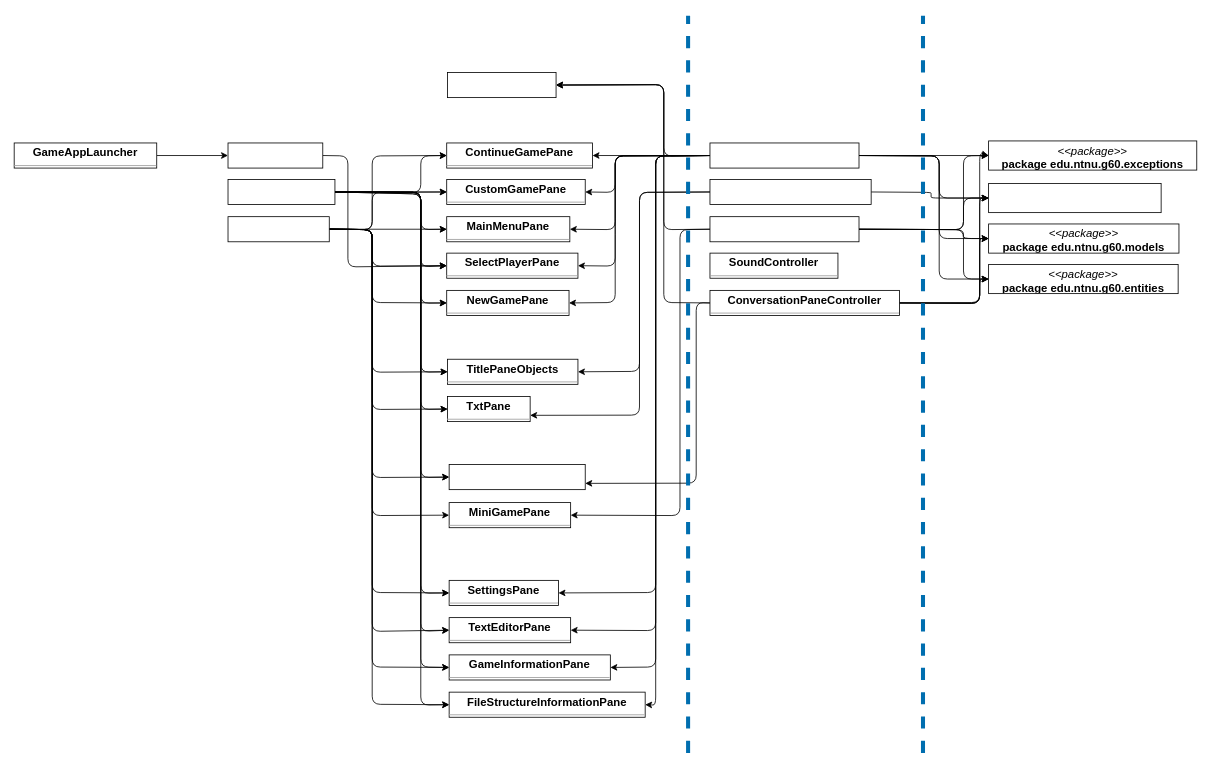
The diagram is 1211 pixels wide and 770 high, and some of its shapes have lost their labels. Here are the shapes that lost their labels. From the top down, the centre of each, then its label:
(501,85): DialogBoxes
(275,155): GameApp
(784,155): StartMenuController
(281,192): ViewObjects
(790,192): AnimationController
(1074,198): <<package>> package edu.ntnu.g60.utils
(278,229): ViewValues
(784,229): MiniGameController
(516,477): ConversationPane
